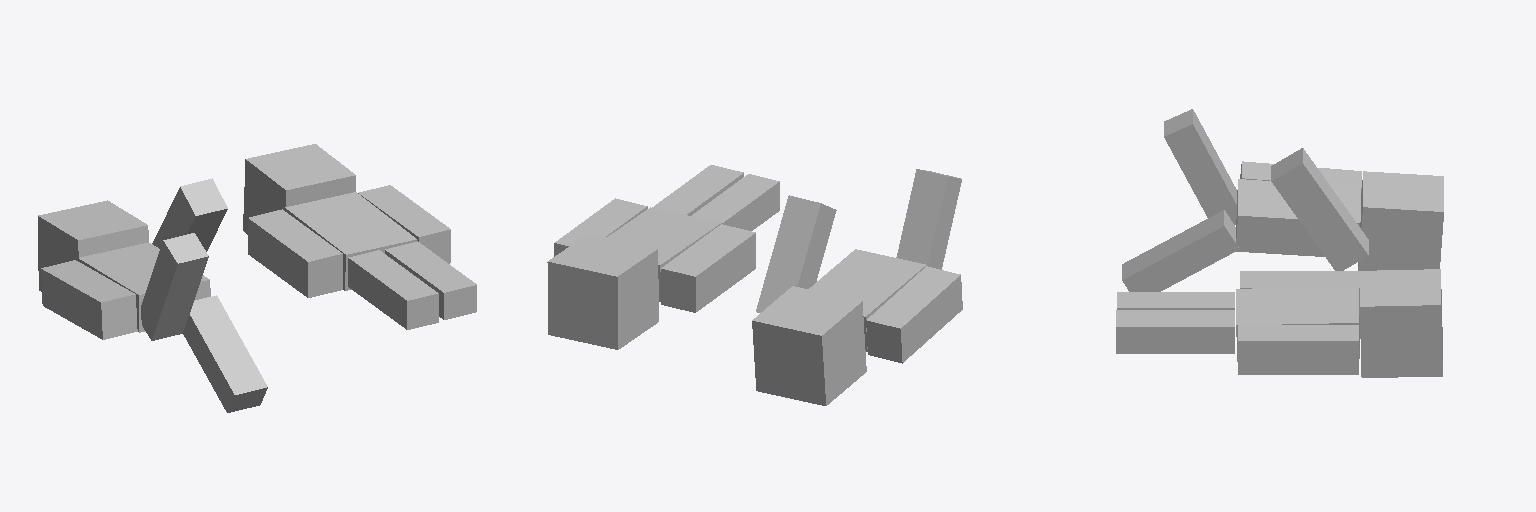
File: steve_000018.obj
The picture shows the model from 3 angles: view 1: azimuth 30°, elevation 25°; view 2: azimuth 150°, elevation 25°; view 3: azimuth 270°, elevation 25°; orthographic projection.
Visible parts, largest first — view 1: Cube.001_Cube.002, Cube_Cube.001; view 2: Cube_Cube.001, Cube.001_Cube.002; view 3: Cube.001_Cube.002, Cube_Cube.001.
Boxes of the visible parts, <box> form: Cube.001_Cube.002: <box>243,144,476,329</box>; Cube_Cube.001: <box>38,178,267,412</box>; Cube_Cube.001: <box>752,169,962,405</box>; Cube.001_Cube.002: <box>547,165,779,349</box>; Cube.001_Cube.002: <box>1116,269,1442,377</box>; Cube_Cube.001: <box>1122,109,1443,291</box>.
Size of the model in its own units: 6.55 by 2.91 by 5.36.